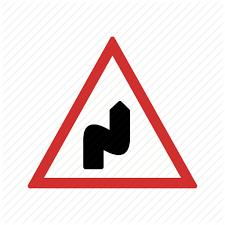double_bend_right: (26, 35, 198, 187)
